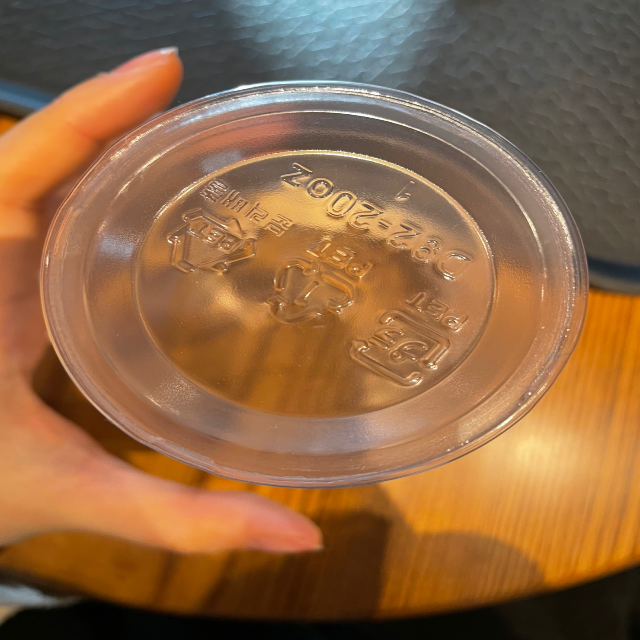pet: (166, 175, 289, 280), (350, 288, 468, 390), (274, 227, 374, 324)
